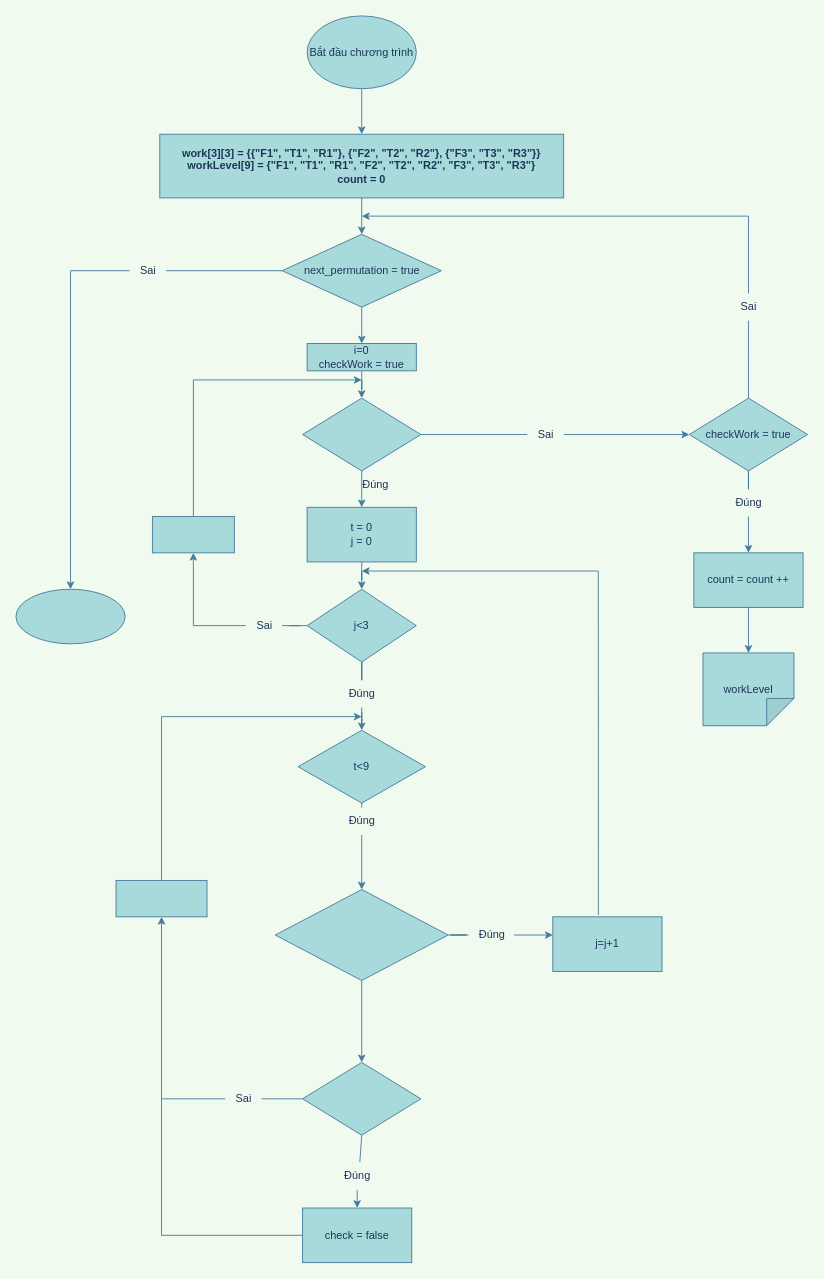
The diagram is 824 pixels wide and 1279 high, and some of its shapes have lost their labels. The shapes that lost their labels are listed below. From the top down, each one's centre as x and y in pixels, then its label:
At (361,434): "i < 3".
At (193,534): "i = i+1".
At (70,616): "Kết thúc chương trình".
At (161,898): "t = t+1".
At (361,935): "work[i][j] = workLevel[t]".
At (361,1098): "t=8".
